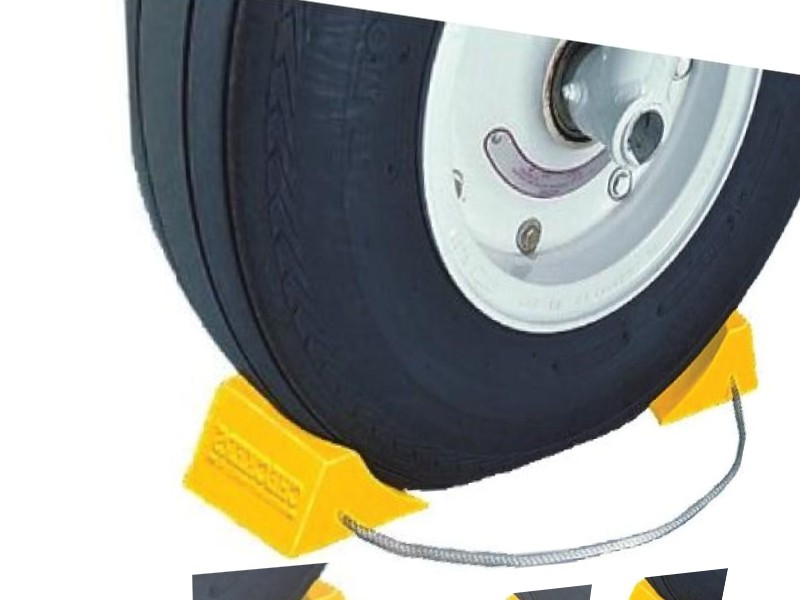chock: (178, 371, 440, 570), (628, 293, 776, 427), (608, 568, 728, 600)
wheel: (119, 0, 800, 512)
